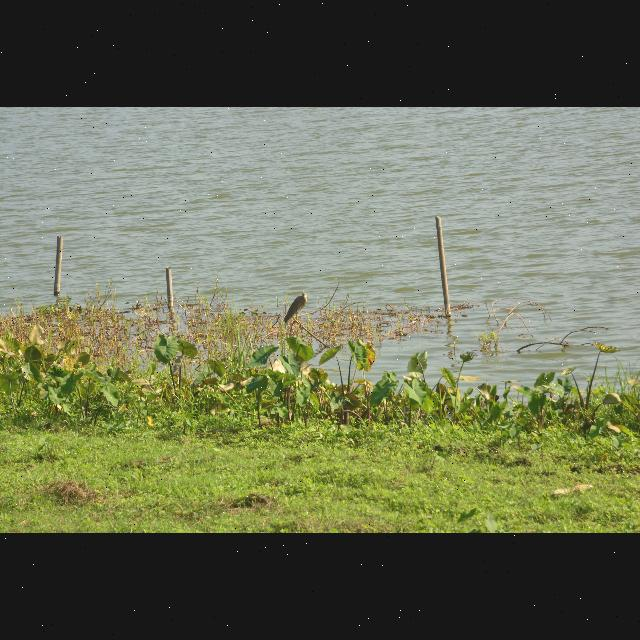heron: (279, 286, 315, 326)
